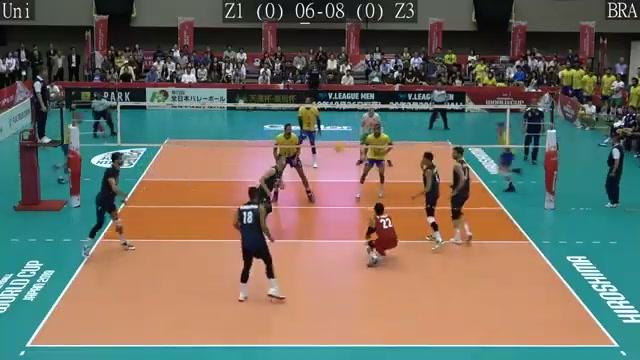ball: (334, 142, 344, 155)
